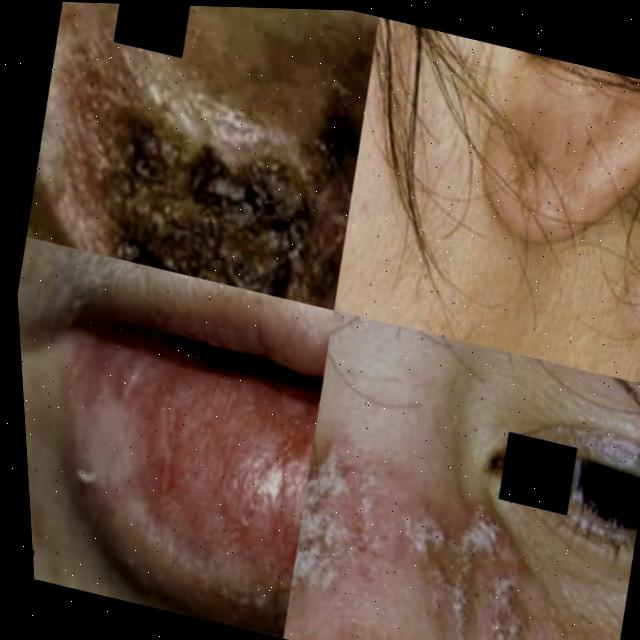lupus-detected: (14, 236, 351, 640), (10, 0, 395, 311), (265, 354, 640, 640), (566, 222, 640, 388)
